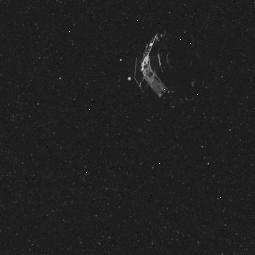lisa_pathfinder: (126, 24, 222, 106)
